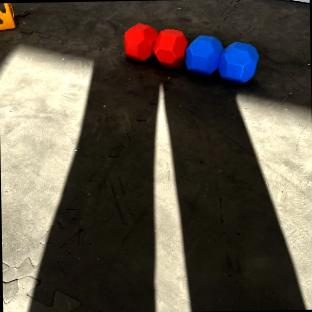V5_BLUE: (185, 35, 258, 82)
V5_RED: (125, 22, 185, 67)
pieces: (122, 20, 259, 85)
